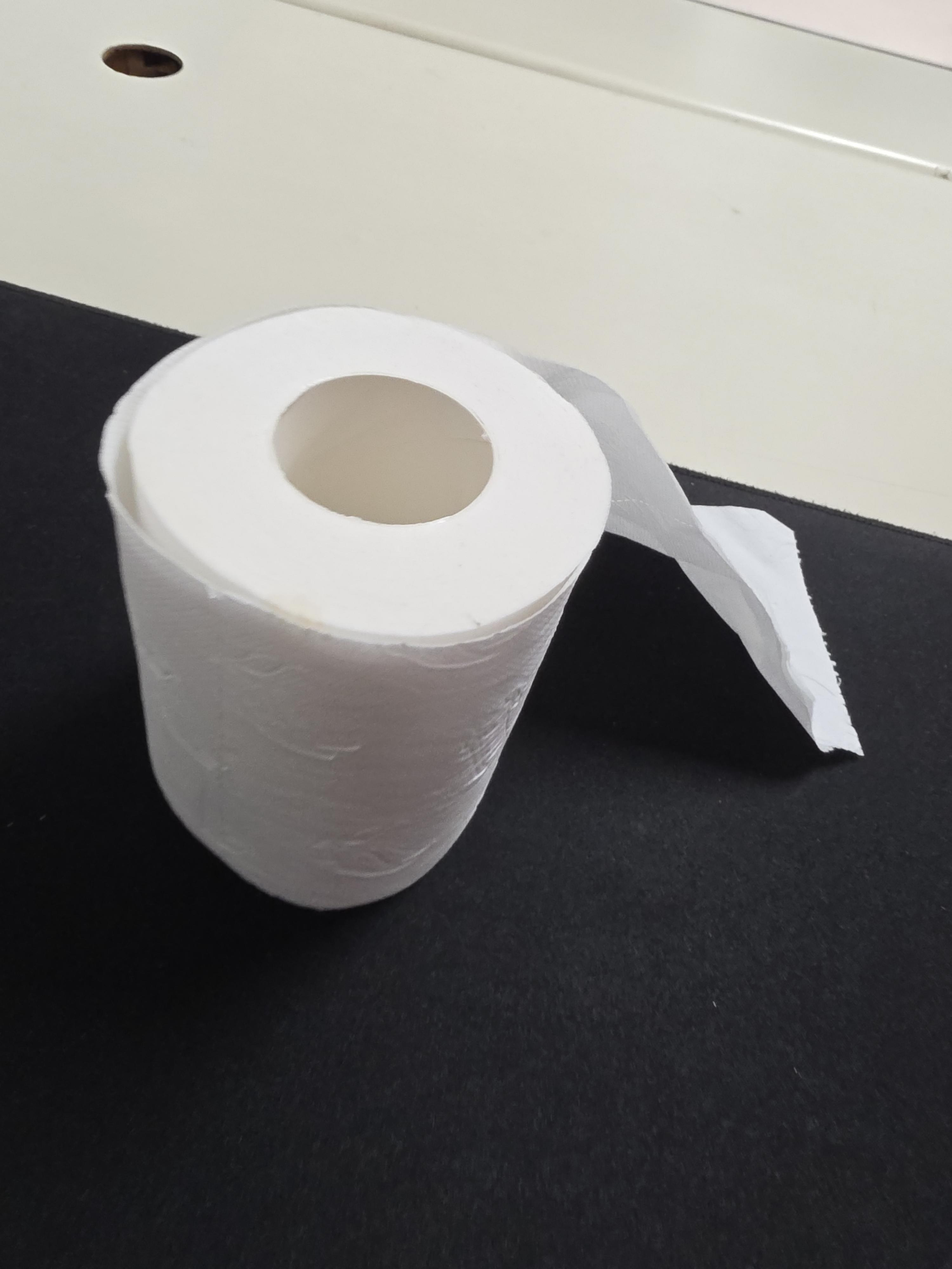tissue: (99, 303, 865, 913)
